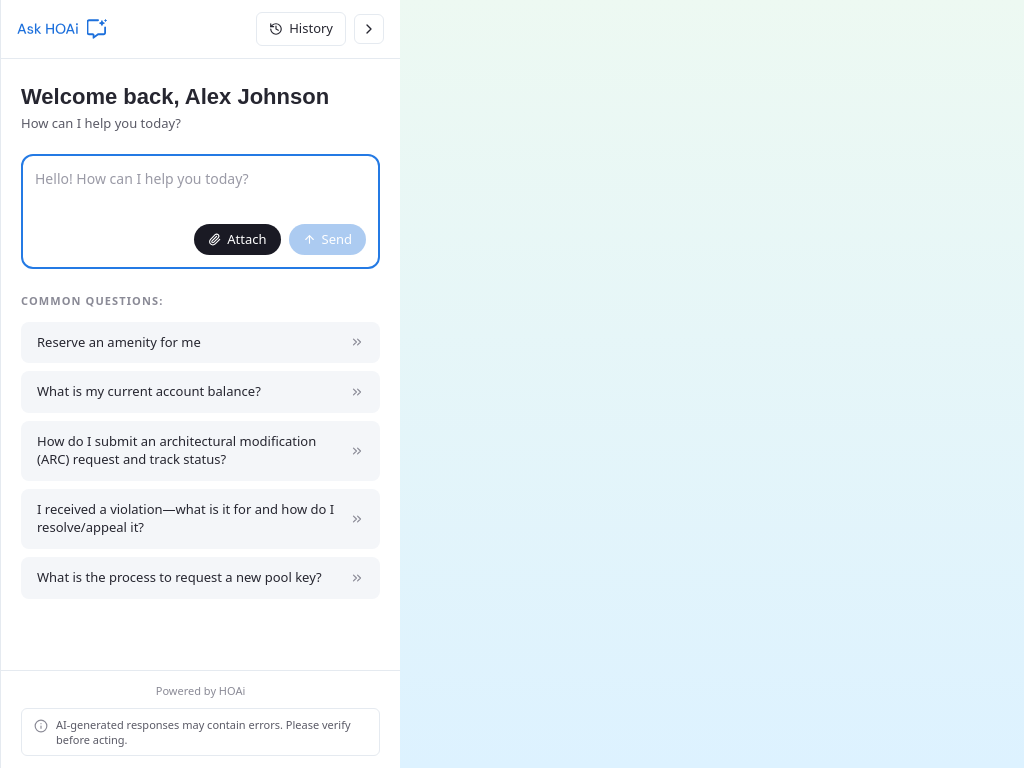
AskHoaiPanel conversation › reserve question is first and starts the flow
Click the button "Reserve an amenity for me". click: (200, 342)
box: [21,322,380,363]
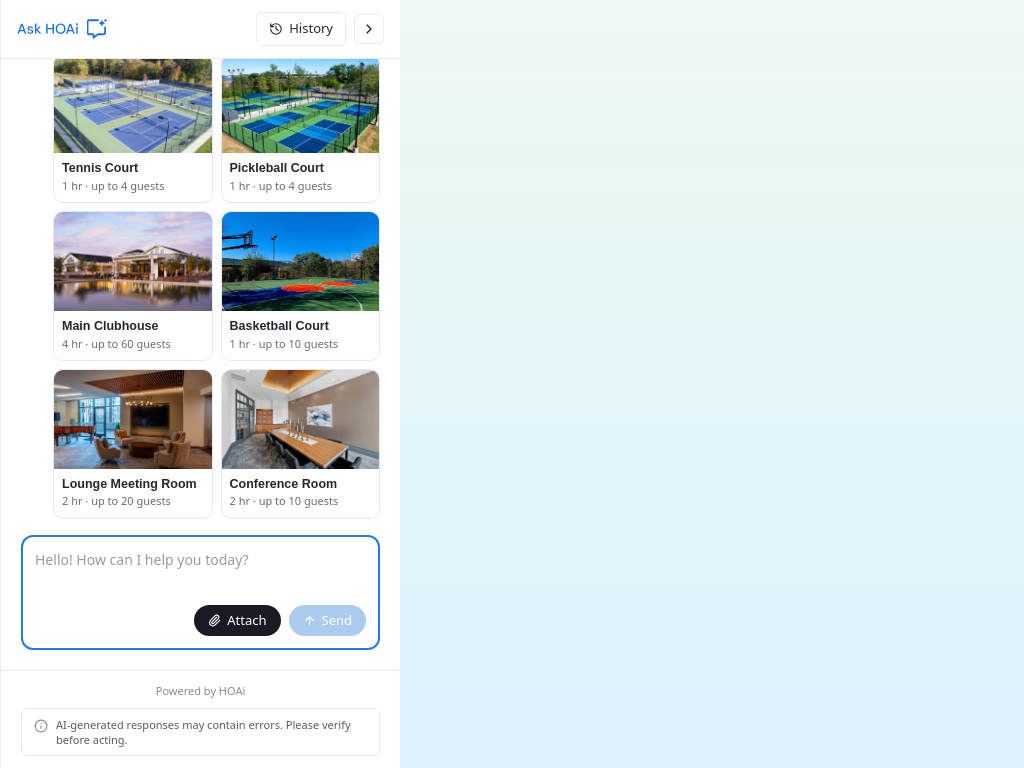
Expected: the button "Tennis Court 1 hr · up to 4 guests" is shown, [53,58,212,204]
Expected: the heading "Welcome back" is gone
